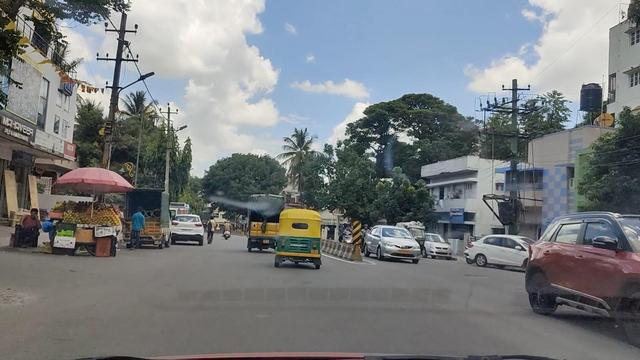LMV: (277, 210, 315, 270)
